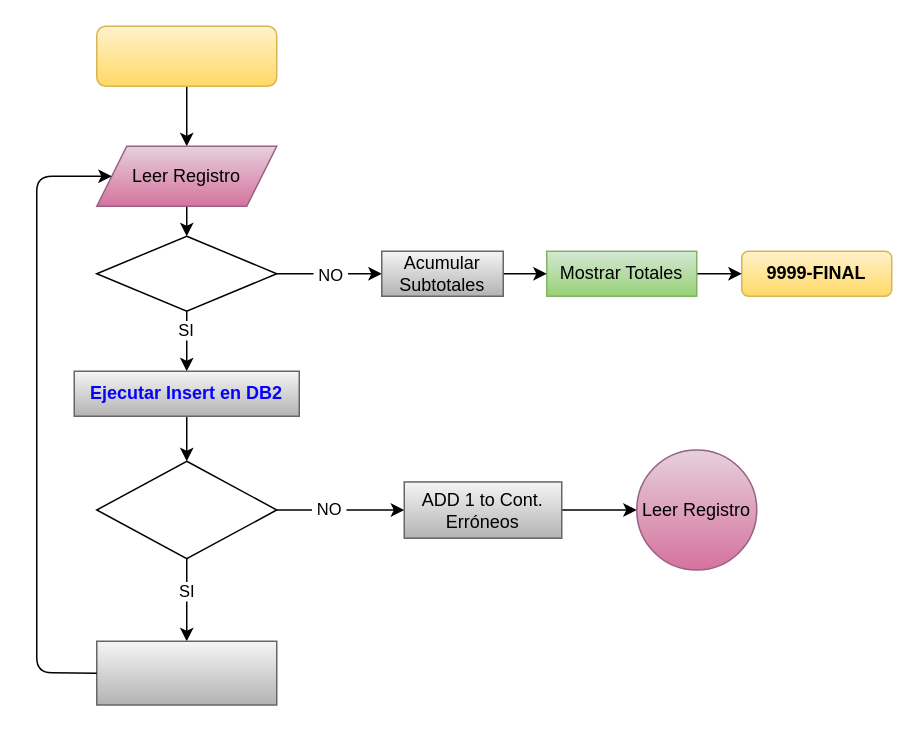
The diagram is 918 pixels wide and 732 high, and some of its shapes have lost their labels. The shapes that lost their labels are listed below. From the top down, each one's centre as x and y in pixels, then its label:
the point at 186,55: 1000-INICIO
the point at 186,273: Existe ?
the point at 186,509: SQLCode = 0 ?
the point at 186,672: ADD 1 to Cont. Registros
